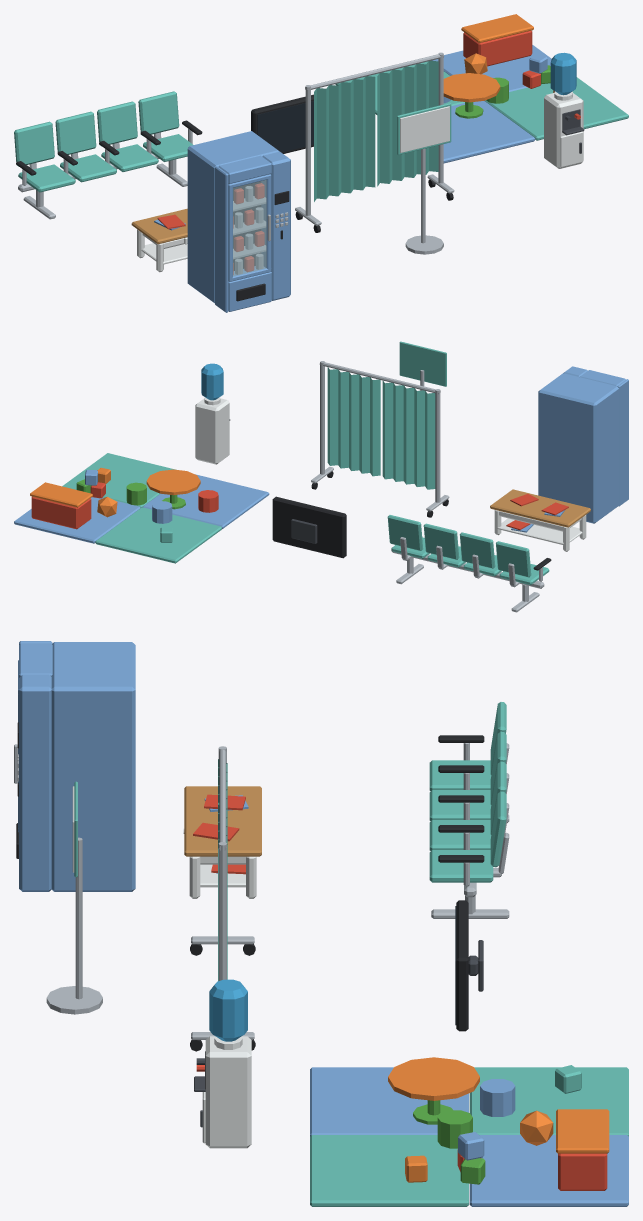
The model's file is hospital-waiting-room.glb.
3 renders of one model, top to bottom at view 1: azimuth 30°, elevation 25°; view 2: azimuth 150°, elevation 25°; view 3: azimuth 270°, elevation 25°, orthographic. The views are drawn at different scales.
Parts seen in each view (by area): view 1: VendingMachine_SoftBlue, ChairRow_4_PaleTeal, Curtain_L, Curtain_R, PlayCorner_SoftBlue, PlayCorner_PaleTeal, DoorGlass, PrivacyCurtain_Metal, Screen, PlayCorner_PaintRed, PlayCorner_PaintOrange, SignFace (+17 smaller); view 2: VendingMachine_SoftBlue, PlayCorner_PaleTeal, Curtain_R, PlayCorner_SoftBlue, Curtain_L, ChairRow_4_PaleTeal, WallTV_Rubber, WaterCooler_HospitalWhite, PrivacyCurtain_Metal, PlayCorner_PaintRed, LowTable_Magazines_Wood, LowTable_Magazines_HospitalWhite (+8 smaller); view 3: VendingMachine_SoftBlue, PlayCorner_PaleTeal, PlayCorner_SoftBlue, ChairRow_4_PaleTeal, WaterCooler_HospitalWhite, PlayCorner_PaintOrange, LowTable_Magazines_Wood, PrivacyCurtain_Metal, Lid, Sign_Blank_Metal, PlayCorner_Foliage, WaterCooler_Water (+6 smaller).
Part boxes in pixels (x1,y1,x2,y2): VendingMachine_SoftBlue: [187, 131, 290, 312]; ChairRow_4_PaleTeal: [14, 91, 193, 192]; Curtain_L: [314, 76, 375, 201]; Curtain_R: [377, 60, 438, 186]; PlayCorner_SoftBlue: [432, 45, 551, 163]; PlayCorner_PaleTeal: [335, 61, 628, 140]; DoorGlass: [233, 180, 266, 276]; PrivacyCurtain_Metal: [295, 52, 454, 225]; Screen: [257, 101, 313, 152]; PlayCorner_PaintRed: [463, 30, 540, 88]; PlayCorner_PaintOrange: [443, 53, 554, 102]; SignFace: [400, 106, 449, 152]; VendingMachine_SoftBlue: [538, 366, 628, 523]; PlayCorner_PaleTeal: [62, 453, 221, 563]; Curtain_R: [327, 367, 380, 476]; PlayCorner_SoftBlue: [14, 469, 269, 543]; Curtain_L: [382, 381, 435, 489]; ChairRow_4_PaleTeal: [387, 515, 549, 585]; WallTV_Rubber: [272, 496, 346, 558]; WaterCooler_HospitalWhite: [195, 397, 229, 464]; PrivacyCurtain_Metal: [311, 361, 449, 511]; PlayCorner_PaintRed: [31, 482, 218, 529]; LowTable_Magazines_Wood: [490, 489, 590, 527]; LowTable_Magazines_HospitalWhite: [494, 510, 586, 551]; VendingMachine_SoftBlue: [19, 641, 135, 891]; PlayCorner_PaleTeal: [310, 1065, 628, 1206]; PlayCorner_SoftBlue: [310, 1067, 628, 1206]; ChairRow_4_PaleTeal: [429, 702, 506, 882]; WaterCooler_HospitalWhite: [205, 1036, 251, 1148]; PlayCorner_PaintOrange: [388, 1057, 553, 1182]; LowTable_Magazines_Wood: [184, 786, 261, 856]; PrivacyCurtain_Metal: [191, 746, 254, 1039]; Lid: [556, 1109, 609, 1153]; Sign_Blank_Metal: [46, 837, 102, 1014]; PlayCorner_Foliage: [413, 1100, 485, 1184]; WaterCooler_Water: [209, 979, 247, 1041].
Size of the model in its own units: 26.83 by 6.45 by 17.39.
